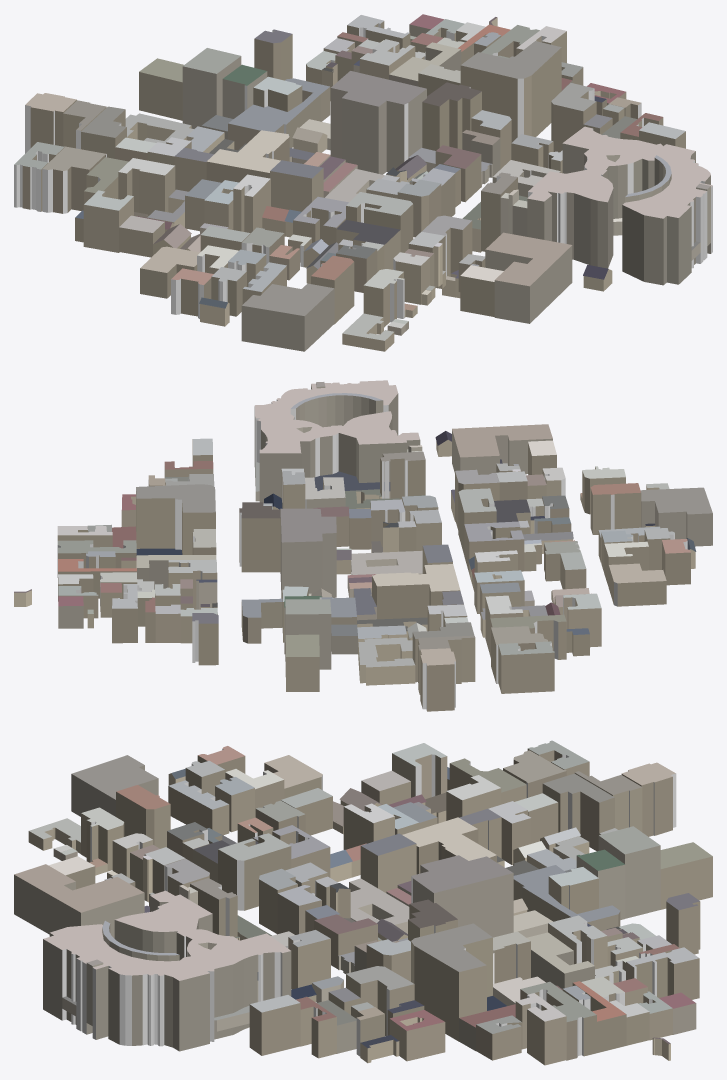
3 renders of one model, top to bottom at view 1: azimuth 30°, elevation 25°; view 2: azimuth 150°, elevation 25°; view 3: azimuth 270°, elevation 25°, orthographic. The views are drawn at different scales.
Visible parts, largest first — view 1: tuile; view 2: tuile; view 3: tuile.
Boxes of the visible parts, <box> form: tuile: <box>14,14,712,351</box>; tuile: <box>14,380,712,711</box>; tuile: <box>14,740,712,1065</box>.
Bounding box in the file's own units: 264 × 38.42 × 275.
